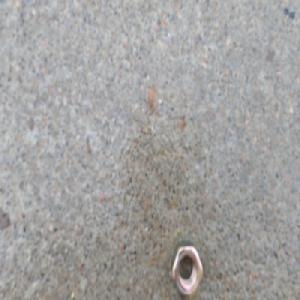Nut: (168, 238, 204, 290)
